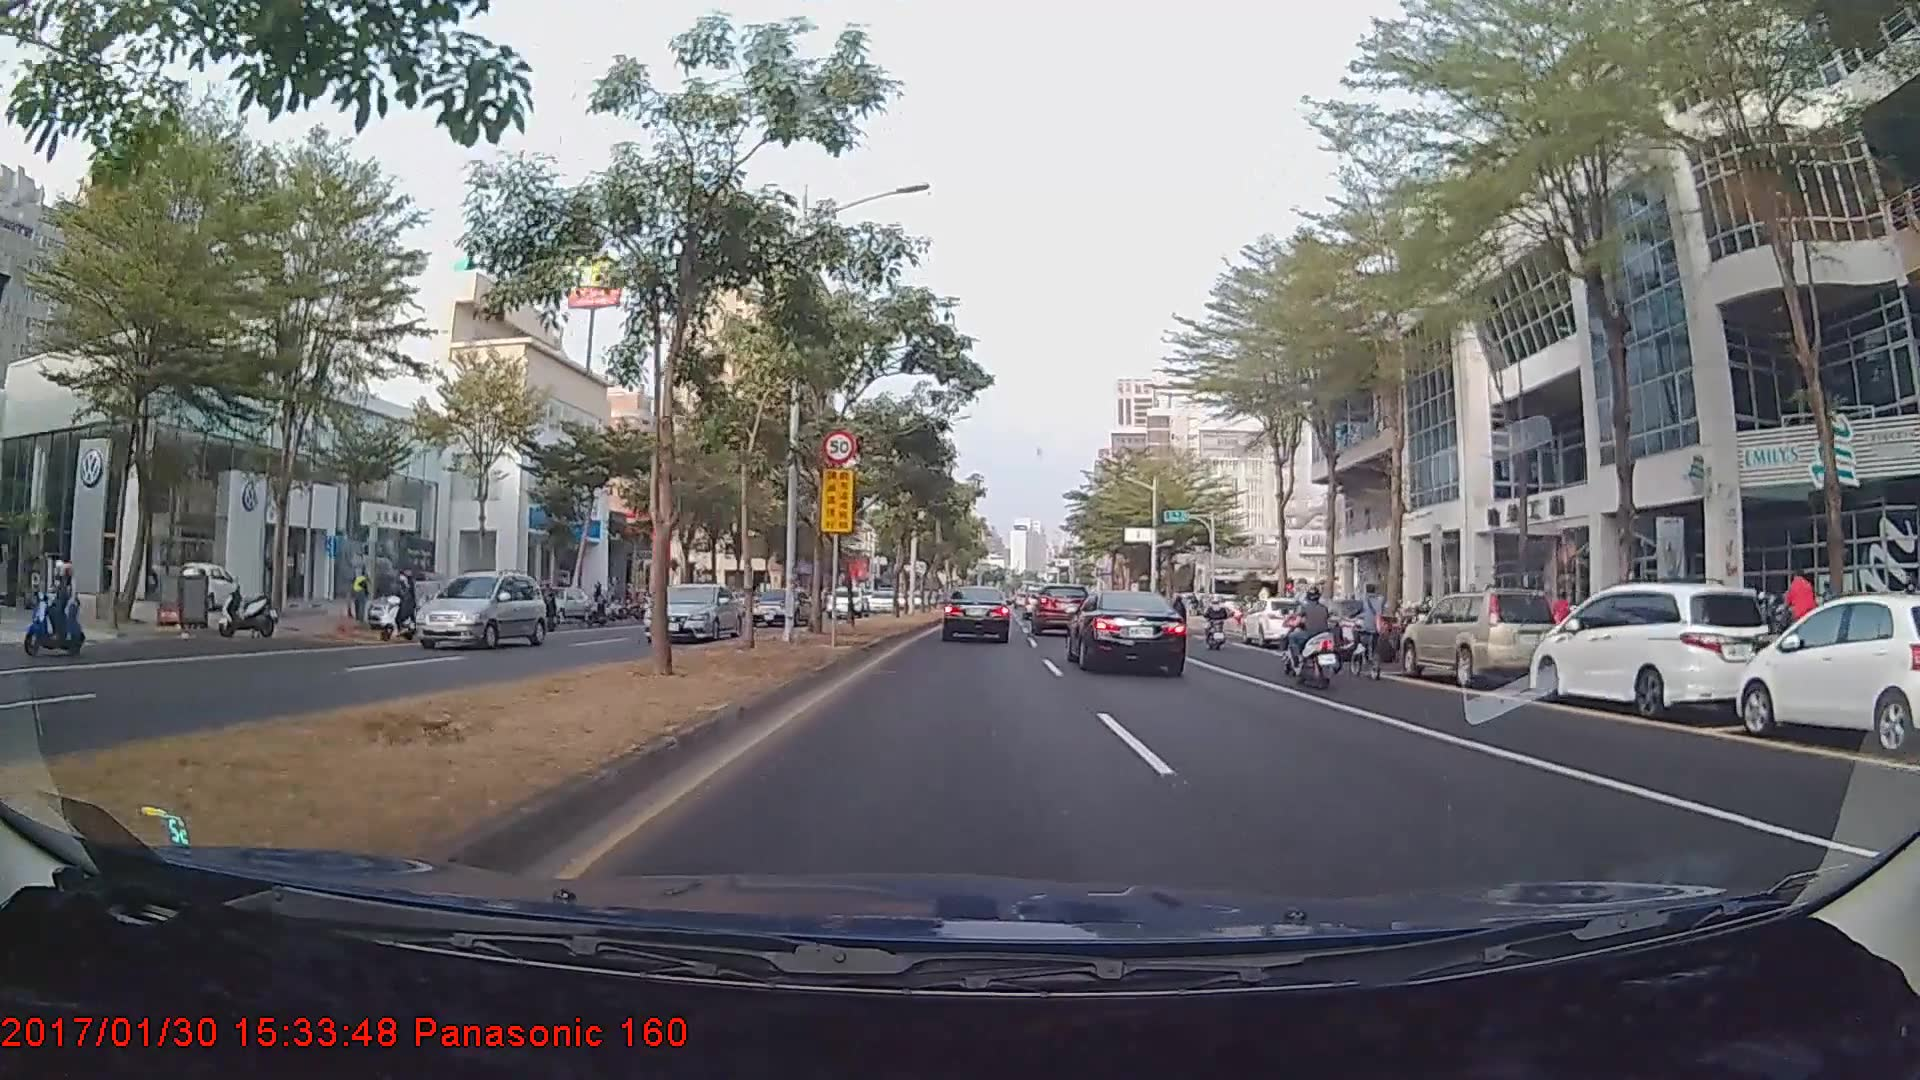rider: (1275, 582, 1350, 691), (28, 557, 92, 653), (1349, 580, 1392, 680), (376, 567, 421, 645), (1198, 594, 1233, 650)
vehicle: (1702, 593, 1920, 758), (1529, 579, 1773, 717), (1399, 591, 1559, 684), (410, 566, 551, 651), (1068, 585, 1188, 676), (1286, 598, 1394, 664), (639, 581, 742, 642), (367, 581, 453, 630), (940, 584, 1012, 643), (1244, 593, 1318, 648), (1029, 583, 1084, 634), (744, 586, 810, 626), (529, 585, 592, 621), (826, 584, 868, 616)
